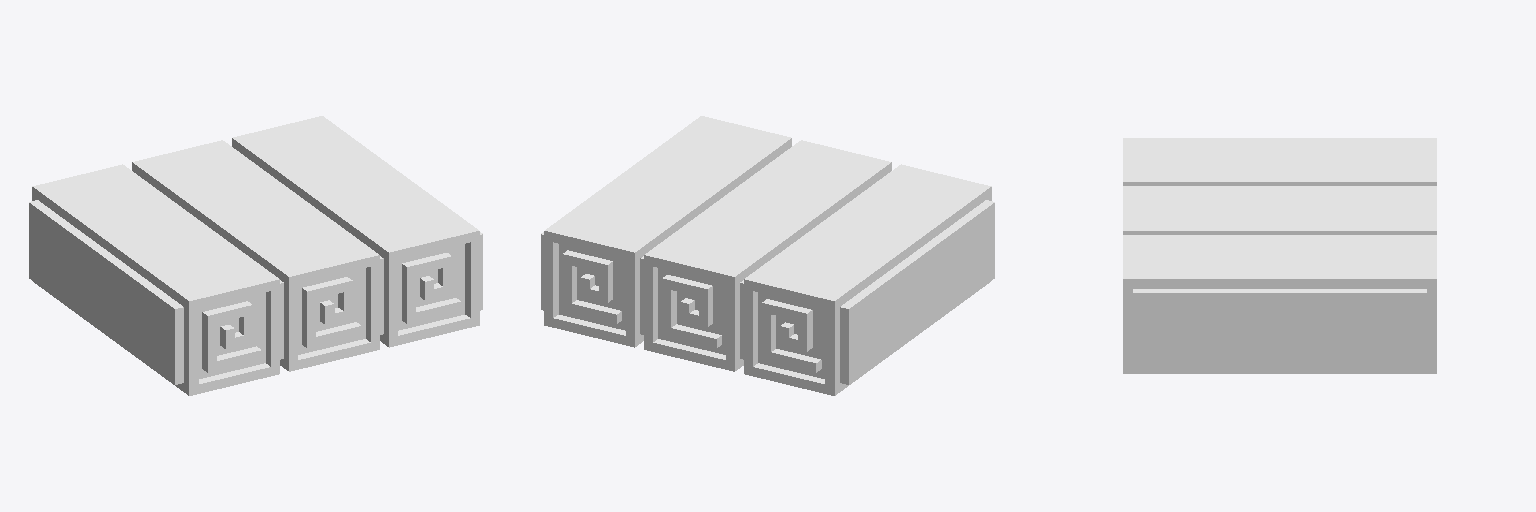
Rendered from piramide-plat-tris-v01.obj.
3 renders of one model, left to right at view 1: azimuth 30°, elevation 25°; view 2: azimuth 150°, elevation 25°; view 3: azimuth 270°, elevation 25°, orthographic.
Visible parts, largest first — view 1: object 1; view 2: object 1; view 3: object 1.
Part boxes in pixels (x1,y1,x2,y2): object 1: (29,116,482,395); object 1: (541,116,994,395); object 1: (1123,138,1436,373).
Size of the model in its own units: 3.4 by 1 by 3.